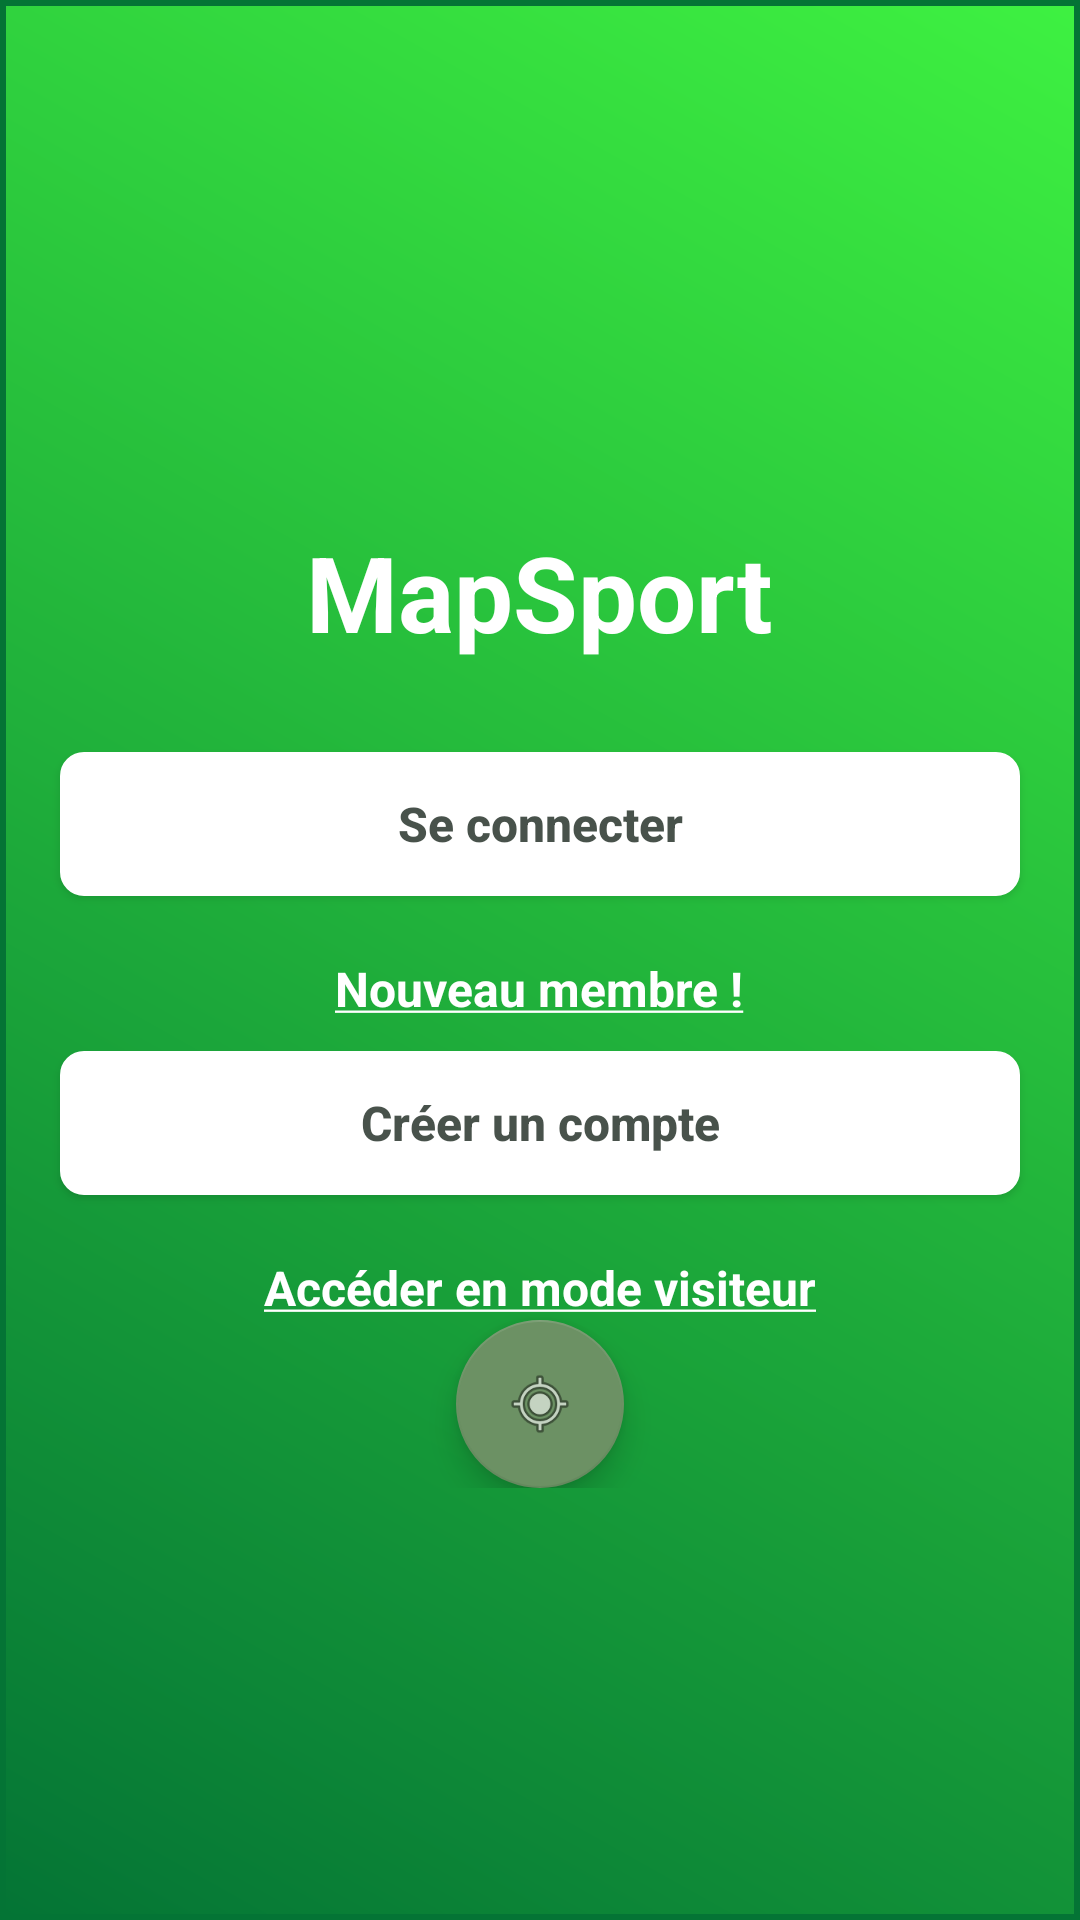

Screen size 1080*1920. Icon name, then its box in pixels as bbox=[x1, y1, x2, y2]:
mylocation: bbox=[456, 1320, 624, 1488]
